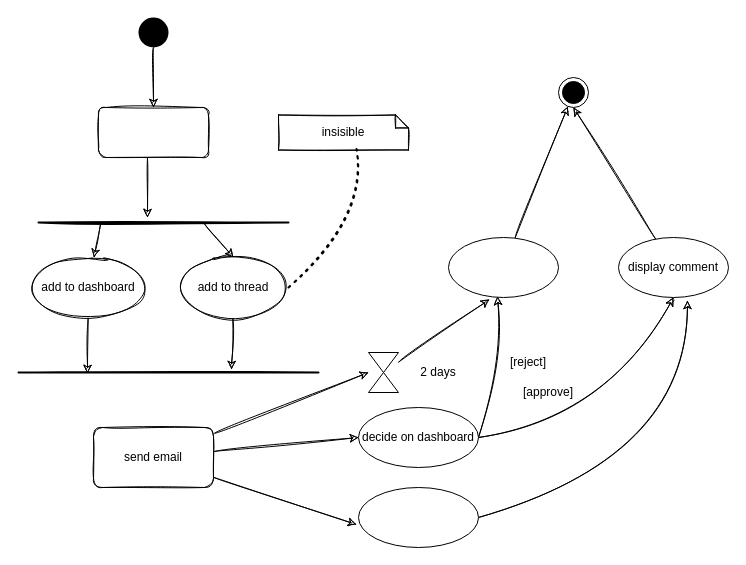
This 746x565 diagram has some shape labels left out. Here are the shapes that lost their labels. From the top down, the centre of each, then its label:
At pixel 153 132: "create comment".
At pixel 503 267: "delete comment".
At pixel 418 517: "receive reply".
